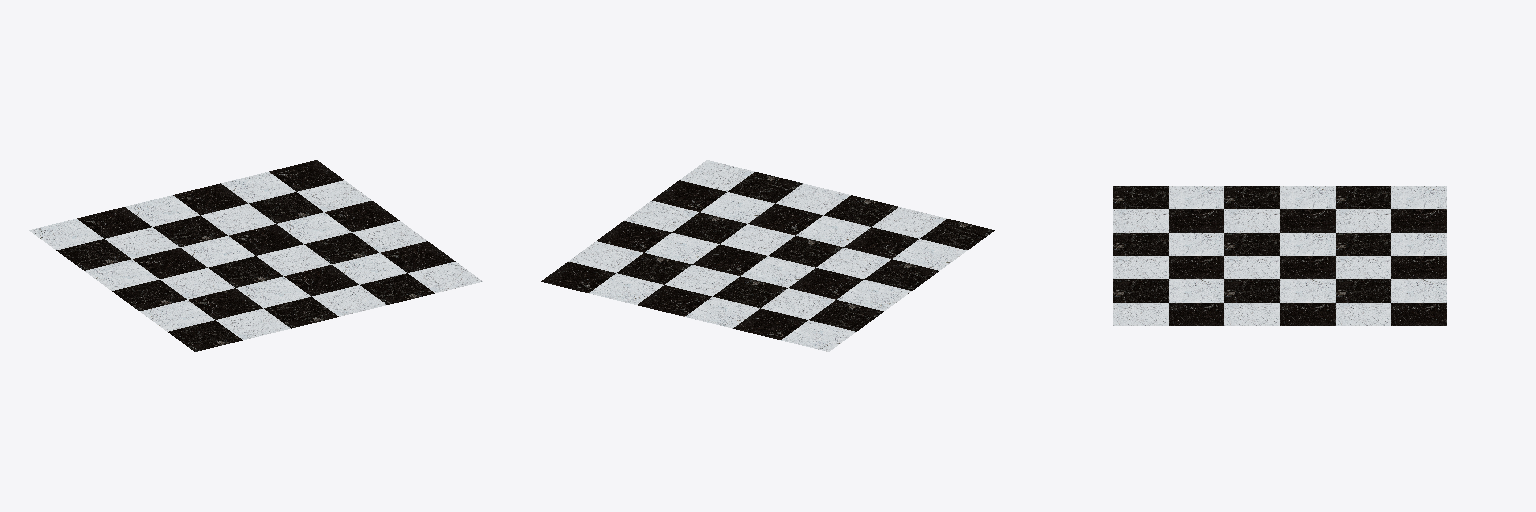
3 views of the same model, side by side, from view 1: azimuth 30°, elevation 25°; view 2: azimuth 150°, elevation 25°; view 3: azimuth 270°, elevation 25° (orthographic).
Visible parts, largest first — view 1: Plane; view 2: Plane; view 3: Plane.
Boxes of the visible parts, x1,y1,x2,y2 form: Plane: [29, 160, 482, 351]; Plane: [541, 160, 994, 351]; Plane: [1113, 186, 1446, 325].
Bounding box in the file's own units: 3 × 0 × 3.
Materials: 1 (1 with a texture image).